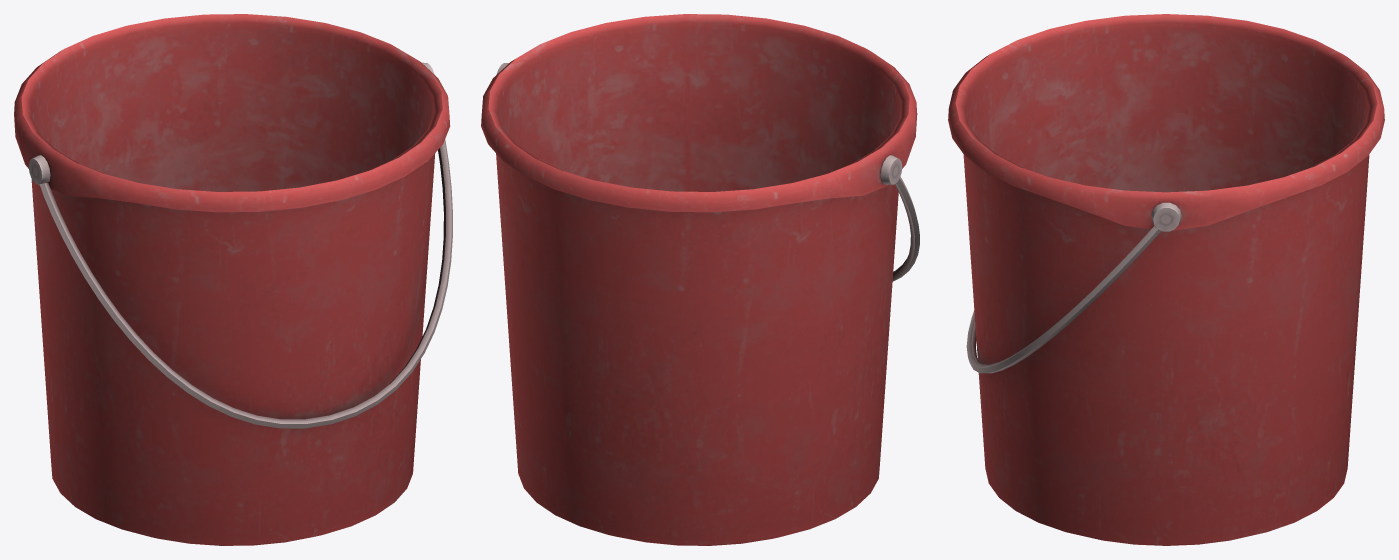
Rendered from plastic_bucket.glb.
3 views of the same model, side by side, from view 1: azimuth 30°, elevation 25°; view 2: azimuth 150°, elevation 25°; view 3: azimuth 270°, elevation 25° (orthographic).
Visible parts, largest first — view 1: Plastic_Bucket; view 2: Plastic_Bucket; view 3: Plastic_Bucket.
Part boxes in pixels (box(x1,y1,x2,y2)): Plastic_Bucket: box(14, 14, 452, 545); Plastic_Bucket: box(481, 14, 919, 545); Plastic_Bucket: box(948, 14, 1384, 545).
Bounding box in the file's own units: 0.4719 × 0.4283 × 0.4543.
Materials: 1 (1 with a texture image).
